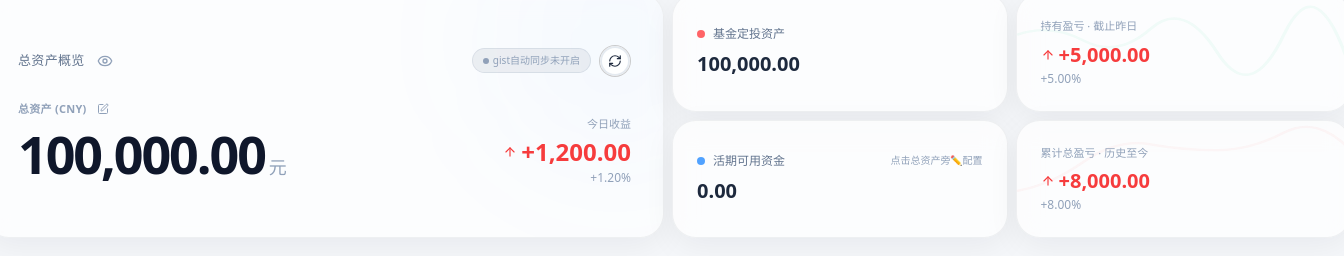
Scenario: AssetAllocationCard › 编辑时输入小于基金资产的值无法确认
Click the button named "编辑总资产" at (103, 109), box top-left (95, 101), bottom-right (111, 117)
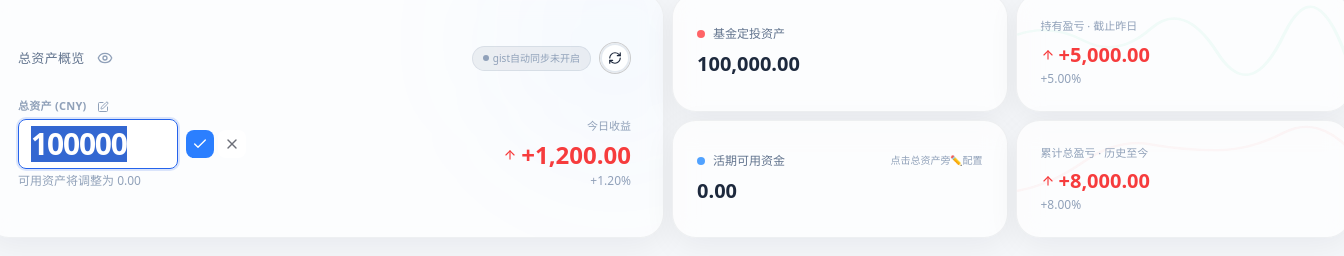
Replace the text in the number field with placeholder "输入总资产" with "50000" at (98, 144), box top-left (18, 119), bottom-right (178, 169)
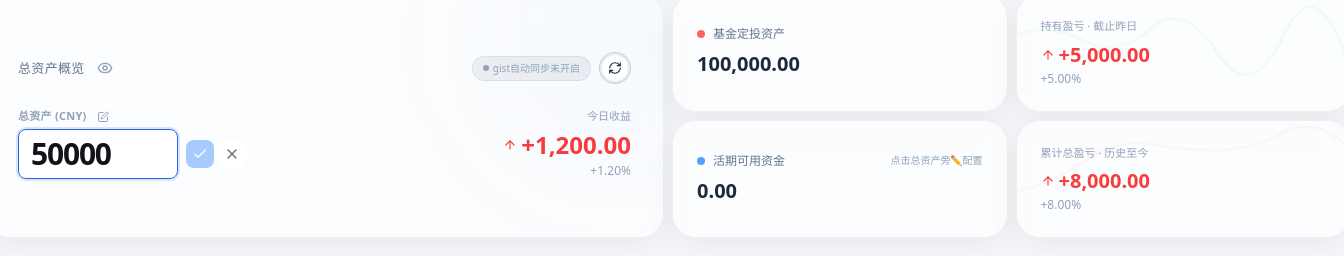
Now the button named "确认" is disabled, box top-left (186, 140), bottom-right (214, 168)
